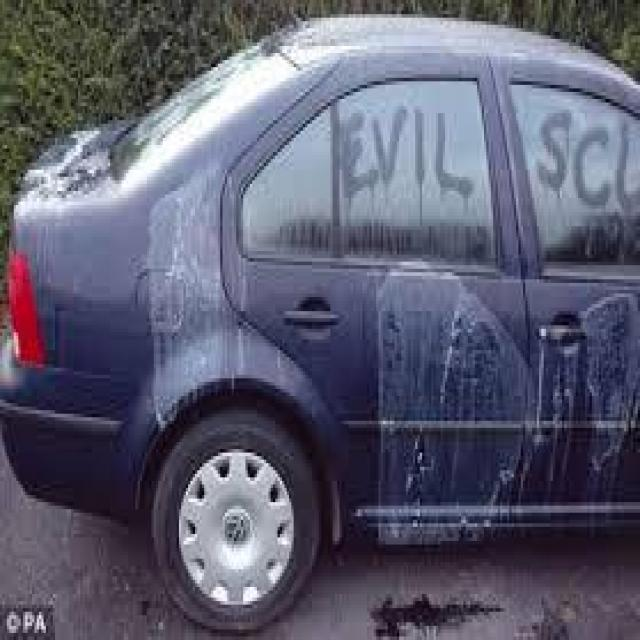damaged: (335, 82, 638, 544), (144, 159, 243, 421)
